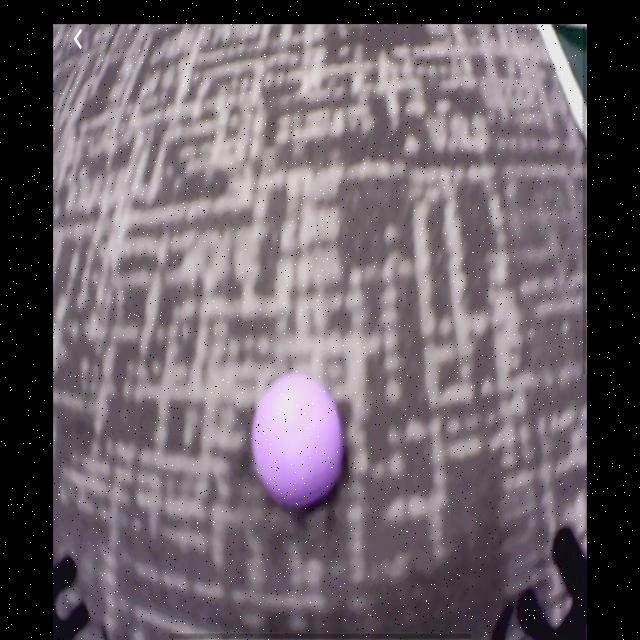ball: (248, 374, 345, 510)
